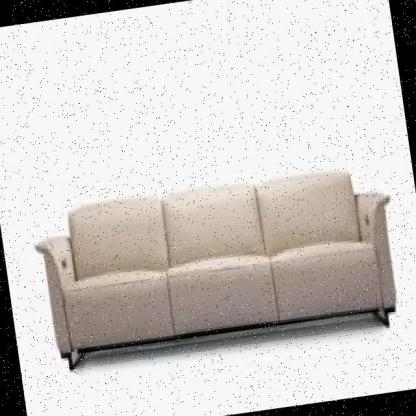Sofa: (18, 133, 416, 405)
